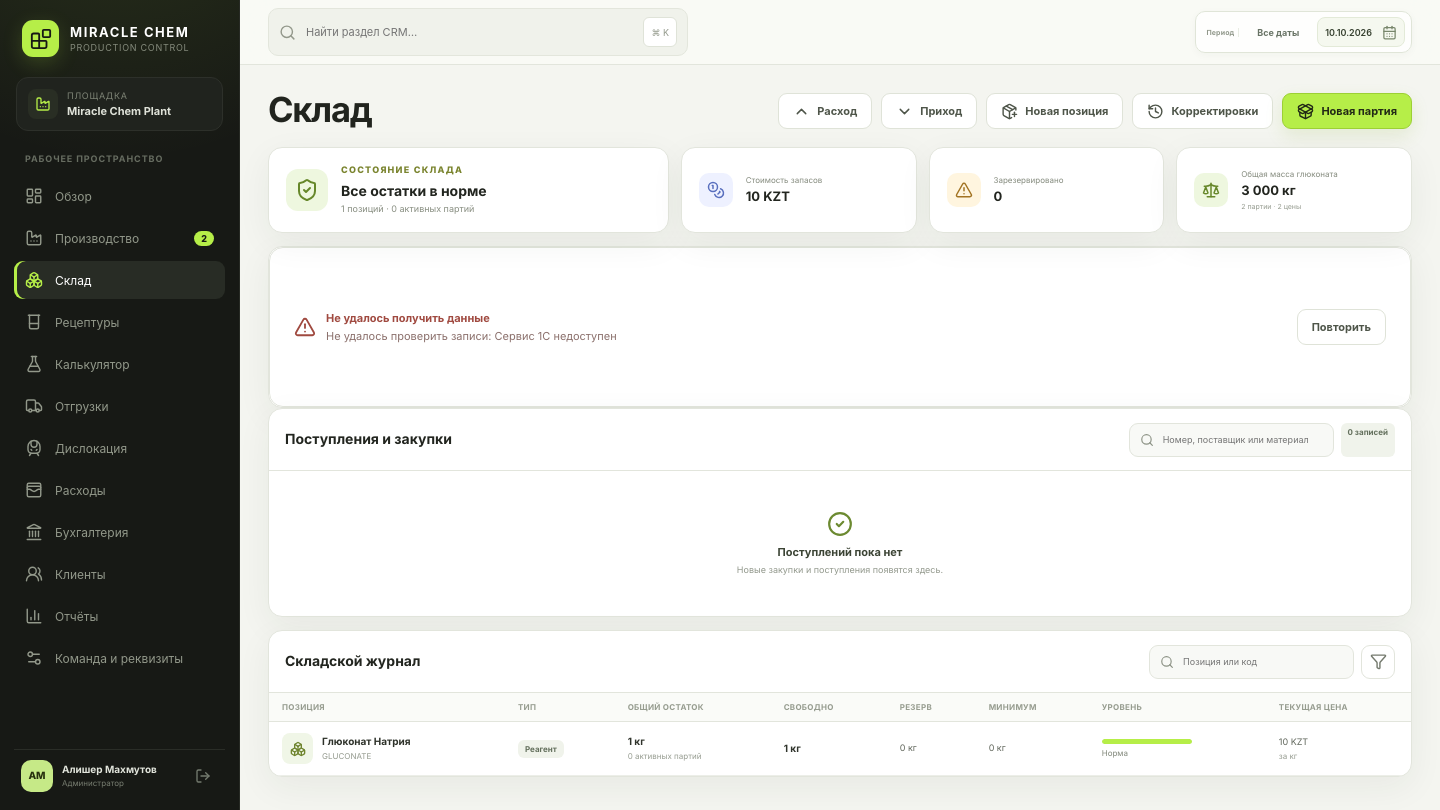
Test: Miracle Chem app shell › shows a retry when the 1C review queue cannot be checked
Expected: the text "Не удалось проверить записи: Сервис 1С недоступен" is shown, x1=326 y1=329 x2=617 y2=343
Click the button "Повторить" at (1341, 327), box x1=1297 y1=309 x2=1386 y2=345
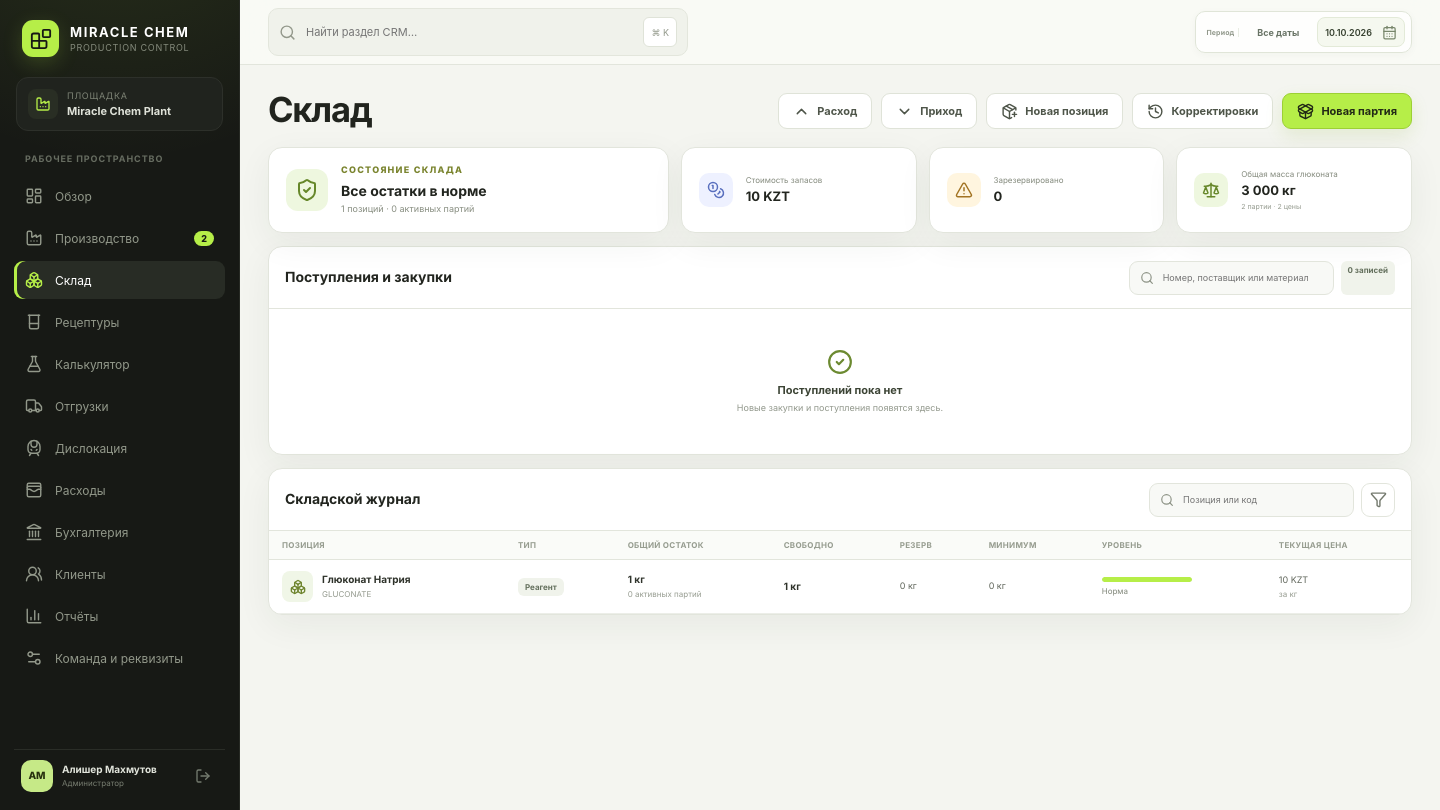
Result: the text "Не удалось проверить записи: Сервис 1С недоступен" is gone
